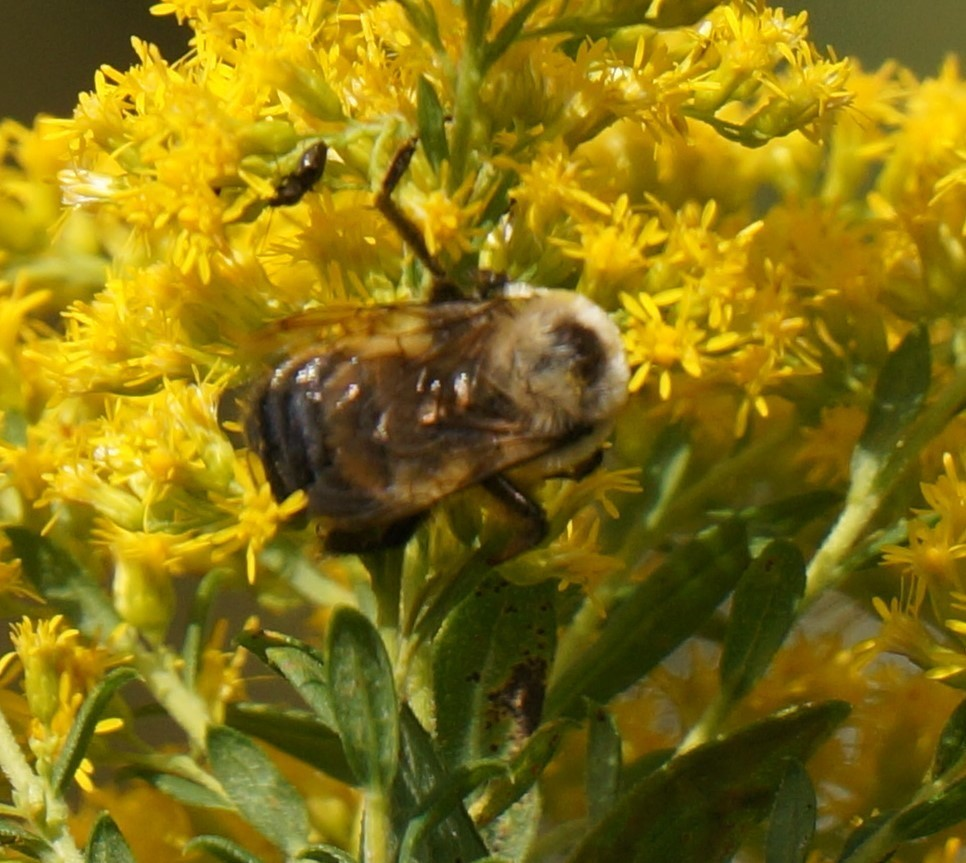bumblebee: (245, 137, 635, 562)
